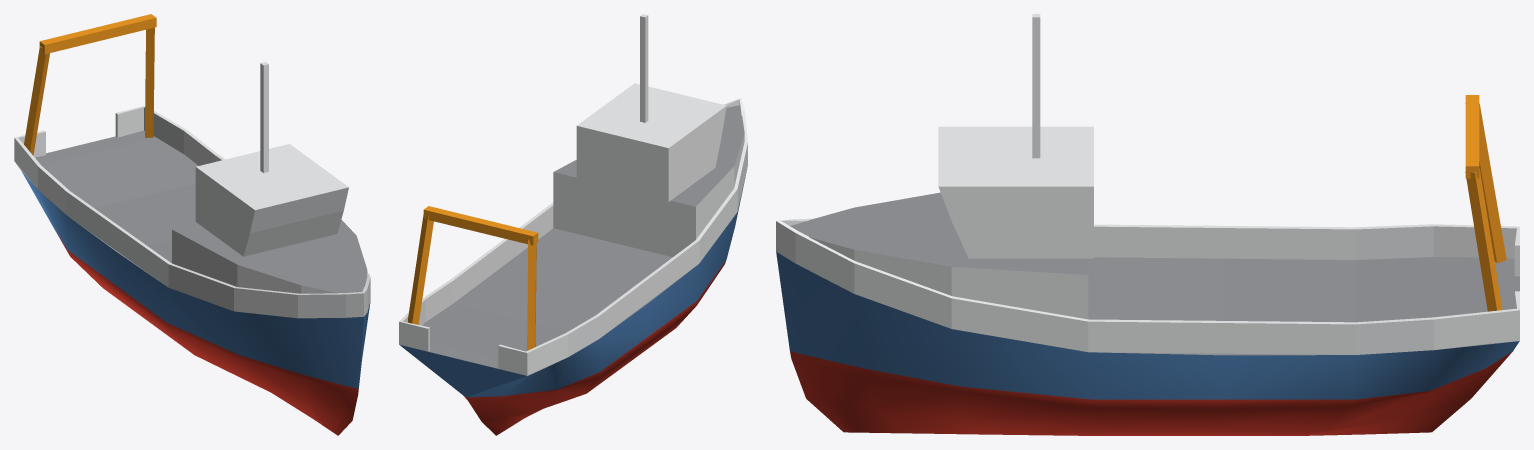
File: ambient_fishing_boat_far.fbx
3 views of the same model, side by side, from view 1: azimuth 30°, elevation 25°; view 2: azimuth 150°, elevation 25°; view 3: azimuth 270°, elevation 25° (orthographic). The views are drawn at different scales.
Visible parts, largest first — view 1: ambient_fishing_boat_far; view 2: ambient_fishing_boat_far; view 3: ambient_fishing_boat_far.
Part boxes in pixels (<box>): ambient_fishing_boat_far: <box>14,14,370,435</box>; ambient_fishing_boat_far: <box>399,14,747,435</box>; ambient_fishing_boat_far: <box>776,14,1519,435</box>.
Size of the model in its own units: 6.8 by 13.6 by 22.
